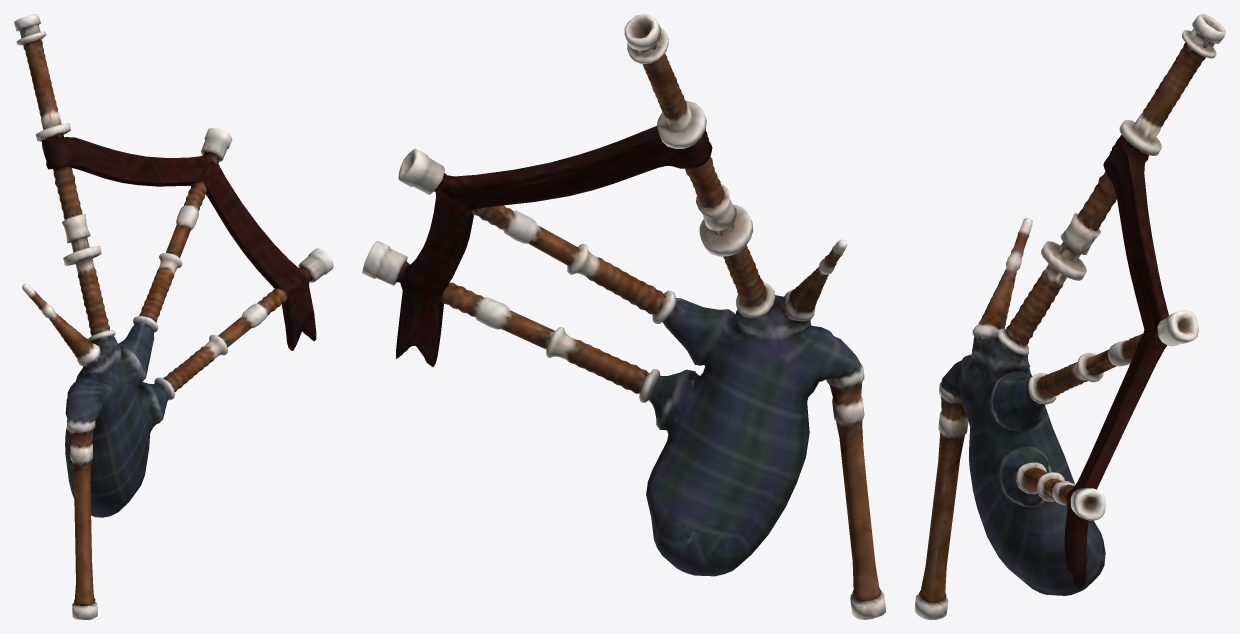
Rendered from MZ4250 - Bagpipes.glb.
The picture shows the model from 3 angles, left to right: view 1: azimuth 30°, elevation 25°; view 2: azimuth 150°, elevation 25°; view 3: azimuth 270°, elevation 25°; orthographic projection. The views are drawn at different scales.
Visible parts, largest first — view 1: Bagpipes.001; view 2: Bagpipes.001; view 3: Bagpipes.001.
Part boxes in pixels (x1,y1,x2,y2): Bagpipes.001: (14,14,333,619); Bagpipes.001: (362,14,885,619); Bagpipes.001: (914,14,1225,619).
Size of the model in its own units: 15.09 by 22.14 by 9.88.
1 material, 1 textured.
